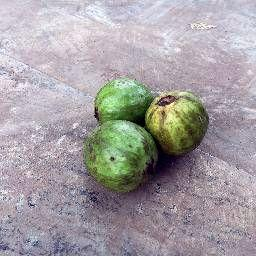guava: (84, 118, 164, 195), (145, 86, 212, 160), (92, 74, 156, 131)
